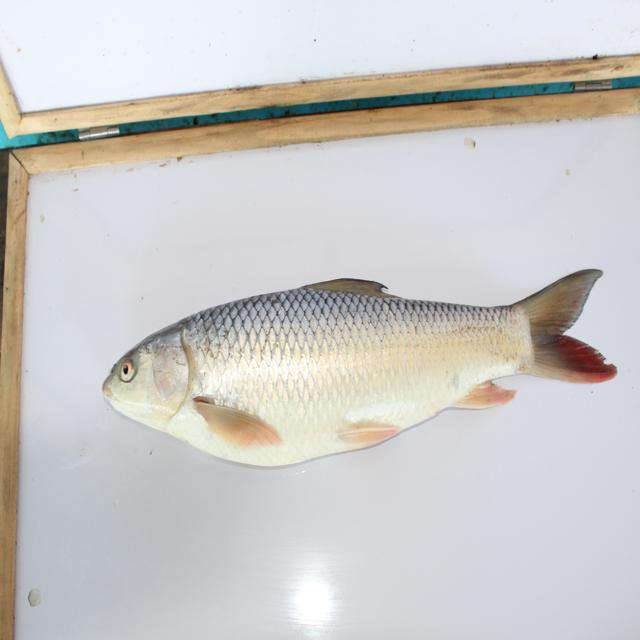Silver Barb: (104, 267, 619, 467)
